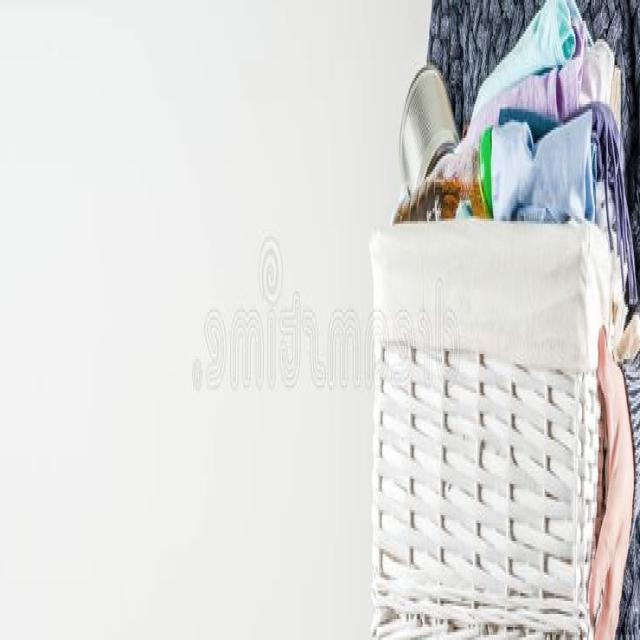clothes: (453, 78, 618, 237)
